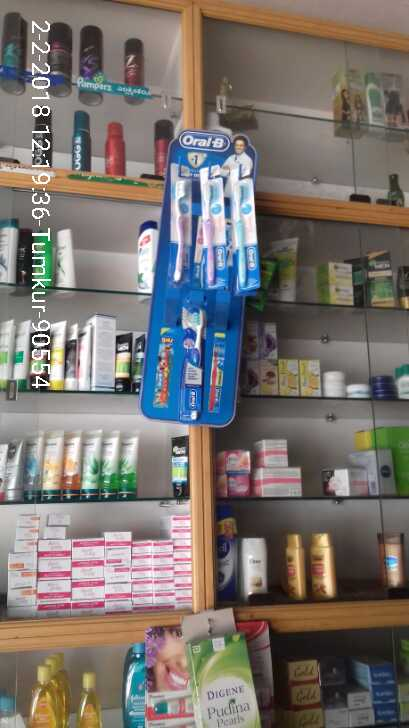oralb: (231, 175, 259, 289), (183, 298, 209, 408), (203, 173, 222, 286), (174, 180, 191, 294)
